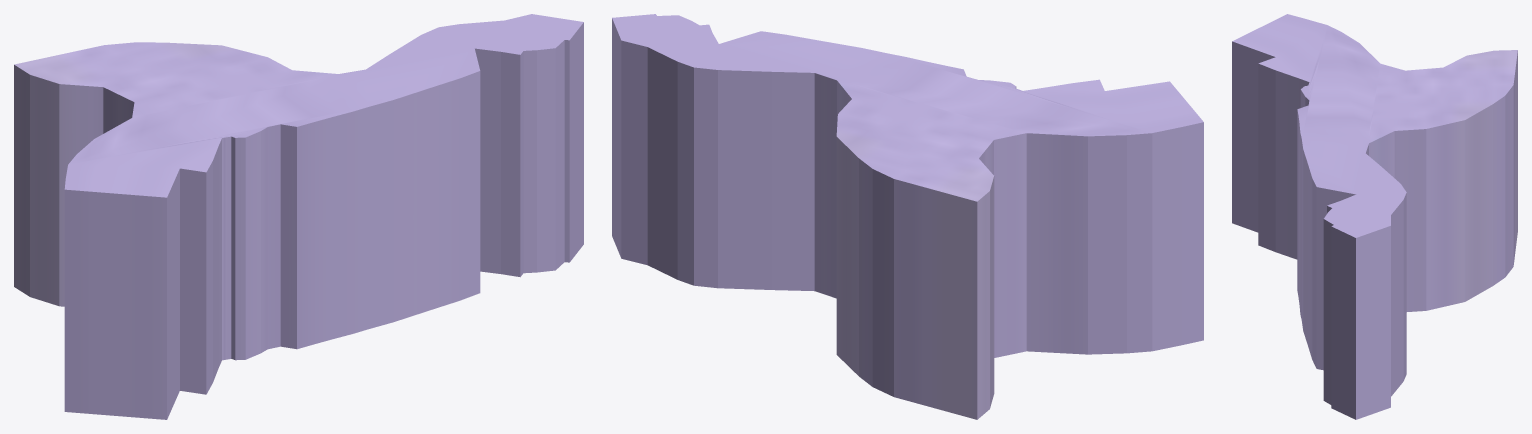
The model's file is new_brunswick.glb.
3 renders of one model, left to right at view 1: azimuth 30°, elevation 25°; view 2: azimuth 150°, elevation 25°; view 3: azimuth 270°, elevation 25°, orthographic. The views are drawn at different scales.
Visible parts, largest first — view 1: Plane.005; view 2: Plane.005; view 3: Plane.005.
Boxes of the visible parts, left/top/right/bottom form: Plane.005: left=14, top=14, right=583, bottom=419; Plane.005: left=612, top=14, right=1203, bottom=419; Plane.005: left=1232, top=14, right=1517, bottom=419.
Bounding box in the file's own units: 0.9662 × 0.3658 × 0.5209.
1 material, 1 textured.
